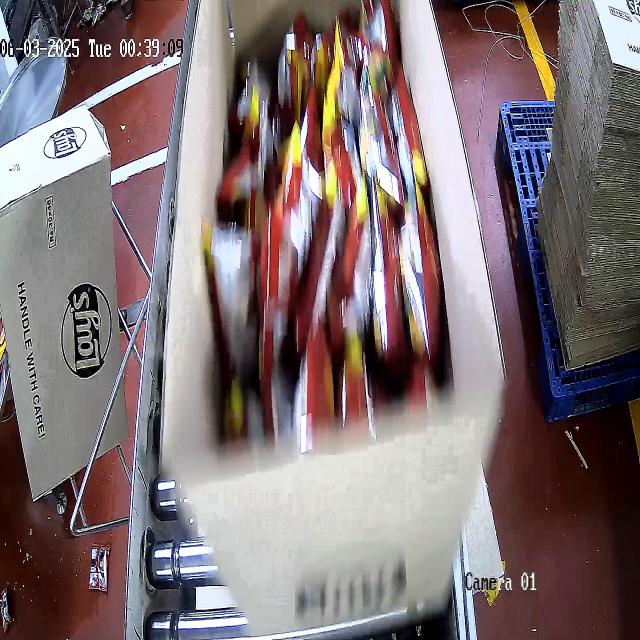MASALA: (206, 1, 446, 459)
